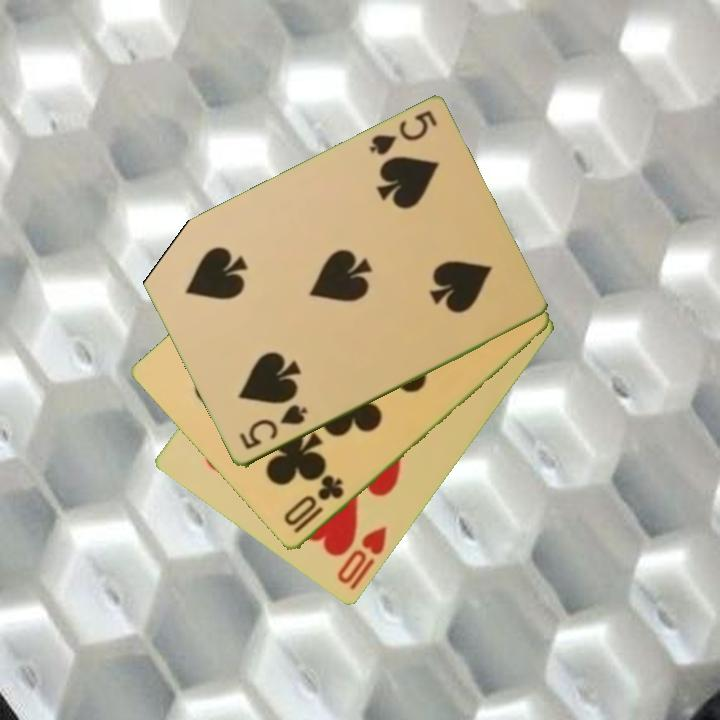10c: (280, 472, 348, 538)
10h: (333, 523, 390, 595)
5s: (235, 401, 311, 453), (365, 107, 440, 159)
